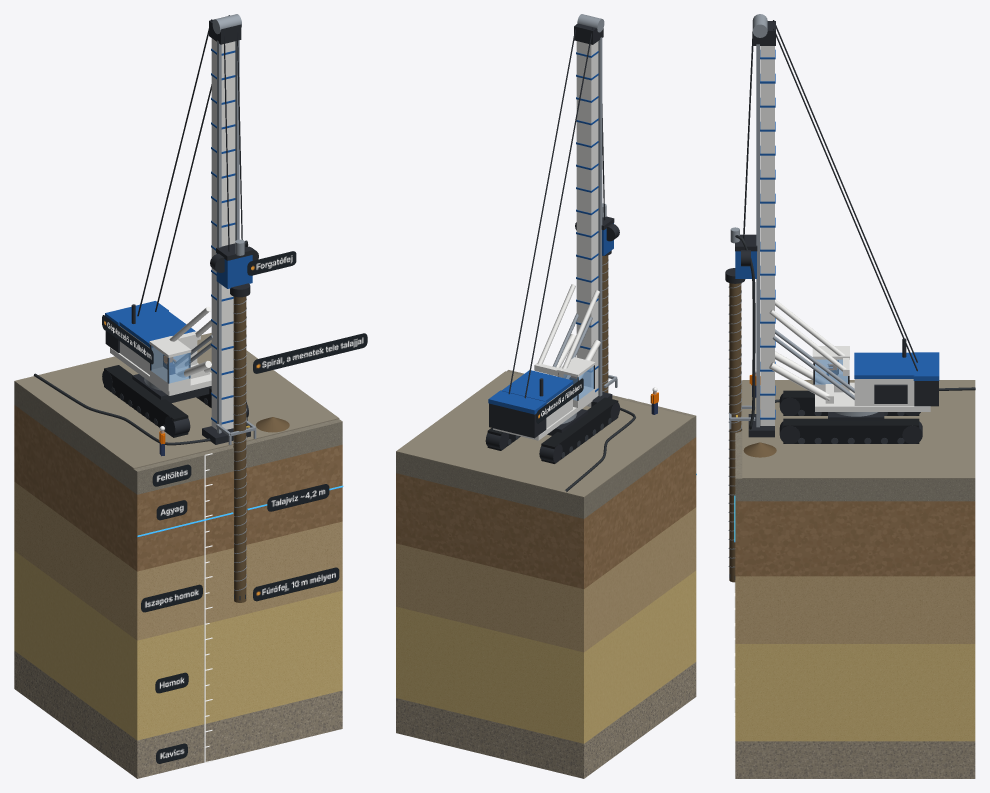
Rendered from cfa-makett-feliratok.glb.
The picture shows the model from 3 angles, left to right: view 1: azimuth 30°, elevation 25°; view 2: azimuth 150°, elevation 25°; view 3: azimuth 270°, elevation 25°; orthographic projection. The views are drawn at different scales.
Visible parts, largest first — view 1: Homok, Agyag (furat), CFA_furogep, Iszapos homok (furat), Munkaszint, Kavics, Feltöltés (furat), Felirat (×6), Iszapos homok, Talaj_a_meneteken, object 15, Melysegi_vonalzo (+2 smaller); view 2: Homok, Agyag (furat), CFA_furogep, Iszapos homok (furat), Munkaszint, Kavics, Feltöltés (furat), Iszapos homok, Talaj_a_meneteken, Felirat; view 3: CFA_furogep, Homok, Agyag (furat), Iszapos homok (furat), Munkaszint, Kavics, Feltöltés (furat), Iszapos homok, Talaj_a_meneteken, Betontomlo, Furocsiga.
Boxes of the visible parts, bbox=[...] form: Homok: bbox=[14, 551, 342, 740]; Agyag (furat): bbox=[14, 405, 342, 571]; CFA_furogep: bbox=[102, 14, 250, 444]; Iszapos homok (furat): bbox=[14, 482, 342, 625]; Munkaszint: bbox=[14, 333, 339, 468]; Kavics: bbox=[14, 651, 342, 778]; Feltöltés (furat): bbox=[14, 382, 342, 494]; Felirat (×6): bbox=[102, 251, 367, 612]; Iszapos homok: bbox=[14, 535, 342, 640]; Talaj_a_meneteken: bbox=[233, 296, 246, 602]; object 15: bbox=[216, 253, 252, 288]; Melysegi_vonalzo: bbox=[204, 453, 212, 762]; Homok: bbox=[396, 570, 696, 743]; Agyag (furat): bbox=[396, 437, 696, 588]; CFA_furogep: bbox=[485, 14, 619, 463]; Iszapos homok (furat): bbox=[396, 507, 696, 638]; Munkaszint: bbox=[396, 371, 693, 497]; Kavics: bbox=[396, 662, 696, 778]; Feltöltés (furat): bbox=[396, 370, 696, 518]; Iszapos homok: bbox=[396, 556, 696, 652]; Talaj_a_meneteken: bbox=[602, 255, 608, 392]; Felirat: bbox=[536, 378, 583, 423]; CFA_furogep: bbox=[743, 14, 939, 443]; Homok: bbox=[735, 644, 975, 741]; Agyag (furat): bbox=[735, 501, 975, 576]; Iszapos homok (furat): bbox=[735, 576, 975, 628]; Munkaszint: bbox=[742, 380, 975, 478]; Kavics: bbox=[735, 741, 975, 778]; Feltöltés (furat): bbox=[735, 381, 975, 501]; Iszapos homok: bbox=[735, 629, 975, 643]; Talaj_a_meneteken: bbox=[729, 283, 741, 582]; Betontomlo: bbox=[735, 235, 975, 429]; Furocsiga: bbox=[728, 283, 741, 579].
Bounding box in the file's own units: 0.2604 × 0.7896 × 0.2518.
40 materials, 16 textured.
